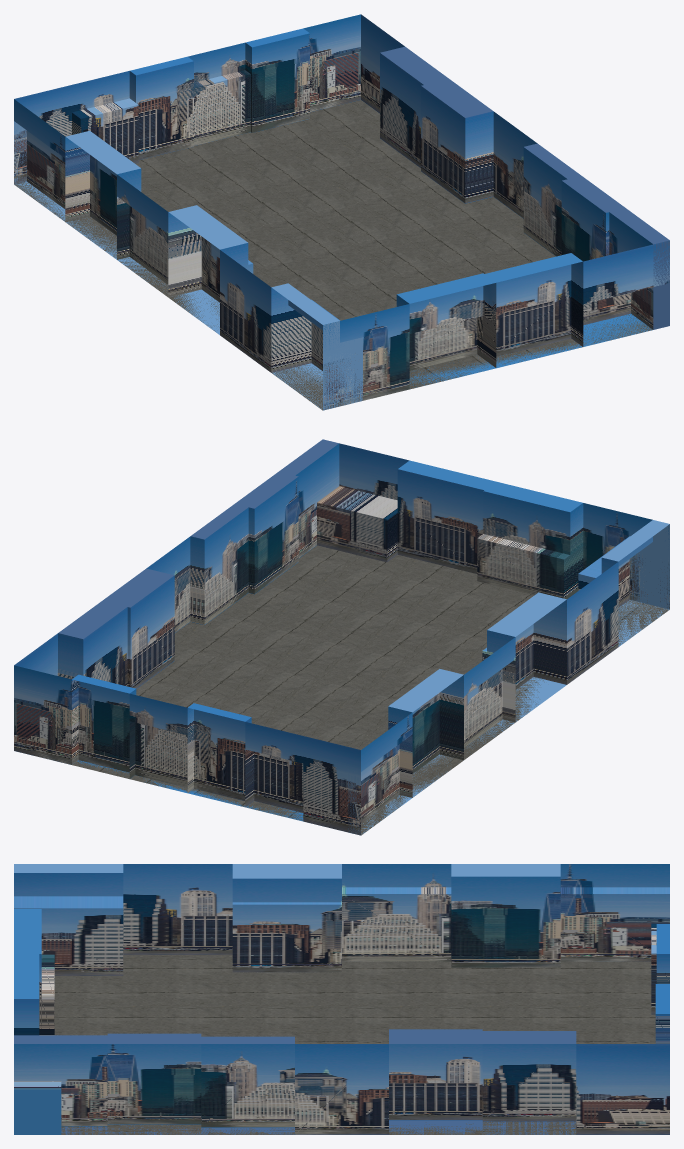
File: ENTORNO1.fbx
3 renders of one model, top to bottom at view 1: azimuth 30°, elevation 25°; view 2: azimuth 150°, elevation 25°; view 3: azimuth 270°, elevation 25°, orthographic. The views are drawn at different scales.
Visible parts, largest first — view 1: Cube, Cube.003, Cube.001, Cube.004, Cube.002; view 2: Cube, Cube.003, Cube.002, Cube.004, Cube.001; view 3: Cube.003, Cube.001, Cube, Cube.004, Cube.002.
Boxes of the visible parts, bbox=[...] form: Cube: bbox=[14, 100, 652, 410]; Cube.003: bbox=[14, 99, 362, 410]; Cube.001: bbox=[361, 14, 669, 329]; Cube.004: bbox=[323, 240, 669, 409]; Cube.002: bbox=[14, 14, 360, 184]; Cube: bbox=[72, 545, 669, 835]; Cube.003: bbox=[348, 520, 669, 835]; Cube.002: bbox=[14, 665, 360, 835]; Cube.004: bbox=[317, 443, 669, 608]; Cube.001: bbox=[14, 439, 339, 688]; Cube.003: bbox=[14, 864, 669, 975]; Cube.001: bbox=[14, 1029, 669, 1134]; Cube: bbox=[54, 955, 655, 1134]; Cube.004: bbox=[14, 909, 61, 1134]; Cube.002: bbox=[651, 923, 669, 1043].
Size of the model in its own units: 26635 by 6277 by 41045.
